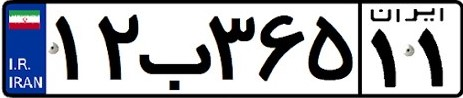character: (207, 6, 258, 93), (135, 38, 214, 93), (258, 7, 307, 92), (306, 7, 356, 85), (93, 10, 140, 84), (49, 13, 85, 88), (366, 25, 403, 91), (413, 25, 451, 88)
